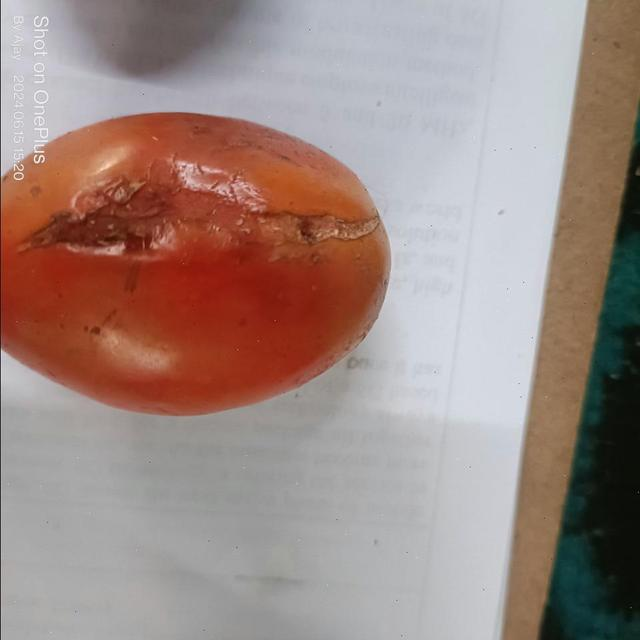Cracking Fruit: (110, 83, 273, 202)
